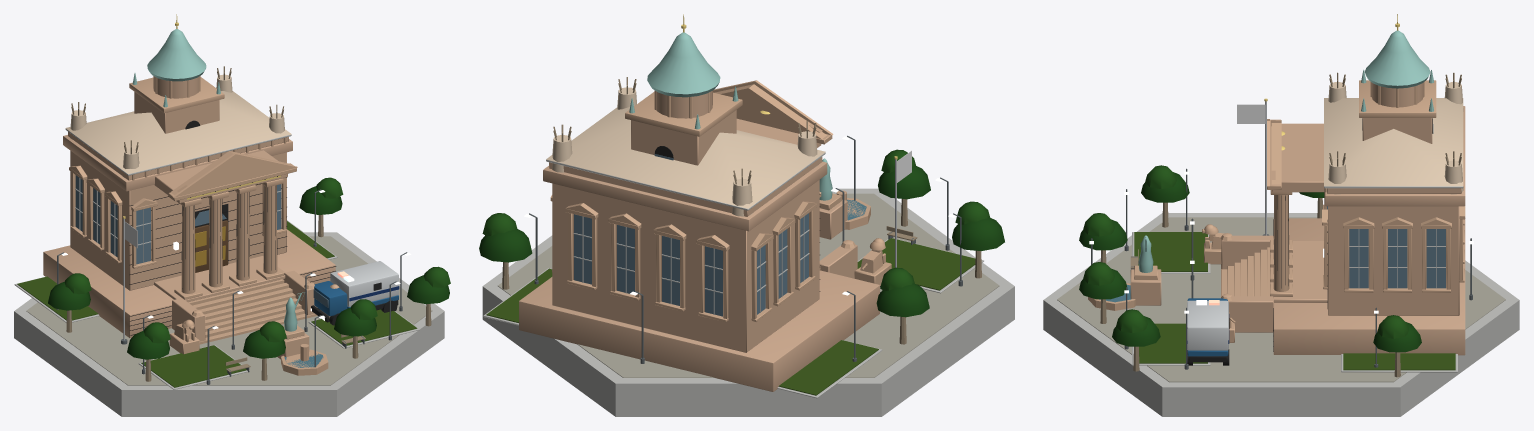
The model's file is courthouse_africa.glb.
The picture shows the model from 3 angles, left to right: view 1: azimuth 30°, elevation 25°; view 2: azimuth 150°, elevation 25°; view 3: azimuth 270°, elevation 25°; orthographic projection. The views are drawn at different scales.
Parts seen in each view (by area): view 1: stone, wall_concrete, pavers, plaster, leaf, turf, dark, glass, paint, copper, wood, steel_dark (+1 smaller); view 2: stone, wall_concrete, plaster, pavers, leaf, glass, turf, copper, wood, steel_dark; view 3: stone, wall_concrete, pavers, plaster, leaf, turf, glass, copper, paint, wood, steel_dark, dark (+1 smaller).
Part boxes in pixels (x1=…): stone: x1=43, y1=76, x2=339, y2=375; wall_concrete: x1=14, y1=129, x2=444, y2=416; pavers: x1=26, y1=236, x2=432, y2=385; plaster: x1=65, y1=74, x2=291, y2=177; leaf: x1=48, y1=177, x2=450, y2=359; turf: x1=17, y1=221, x2=417, y2=387; dark: x1=129, y1=120, x2=398, y2=335; glass: x1=75, y1=175, x2=328, y2=367; paint: x1=314, y1=261, x2=399, y2=316; copper: x1=132, y1=29, x2=304, y2=331; wood: x1=66, y1=66, x2=431, y2=381; steel_dark: x1=56, y1=189, x2=407, y2=384; stone: x1=519, y1=80, x2=891, y2=391; wall_concrete: x1=482, y1=152, x2=1014, y2=416; plaster: x1=546, y1=87, x2=825, y2=216; pavers: x1=498, y1=193, x2=999, y2=377; leaf: x1=479, y1=149, x2=1004, y2=317; glass: x1=574, y1=154, x2=866, y2=316; turf: x1=486, y1=238, x2=975, y2=395; copper: x1=629, y1=32, x2=832, y2=200; wood: x1=502, y1=77, x2=981, y2=344; steel_dark: x1=529, y1=135, x2=962, y2=363; stone: x1=1088, y1=80, x2=1465, y2=355; wall_concrete: x1=1043, y1=186, x2=1519, y2=416; pavers: x1=1057, y1=217, x2=1505, y2=382; plaster: x1=1324, y1=82, x2=1463, y2=194; leaf: x1=1079, y1=165, x2=1421, y2=352; turf: x1=1134, y1=232, x2=1455, y2=370; glass: x1=1099, y1=124, x2=1445, y2=302; copper: x1=1138, y1=30, x2=1433, y2=272; paint: x1=1187, y1=298, x2=1229, y2=356; wood: x1=1100, y1=72, x2=1461, y2=377; steel_dark: x1=1091, y1=168, x2=1472, y2=369; dark: x1=1187, y1=118, x2=1432, y2=365.
Size of the model in its own units: 21.41 by 18 by 24.6.
